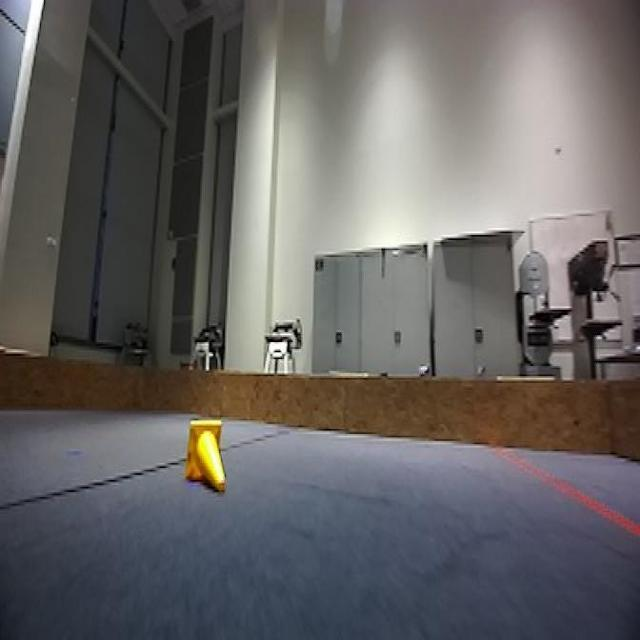frc_cone: (179, 412, 233, 499)
